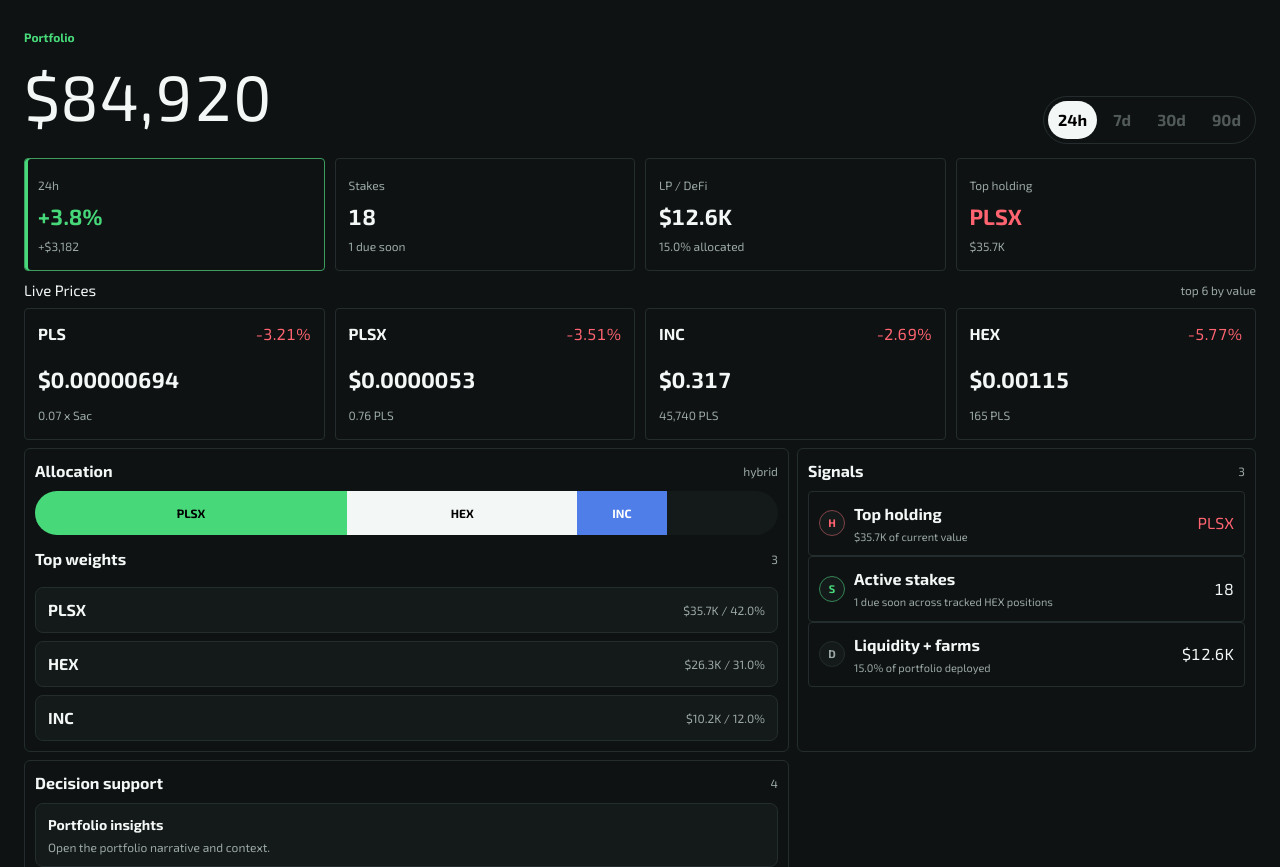
Test: atlas home surface › opens an exact token detail from the design fallback
The image size is (1280, 867).
Click the button "PLSX -3.51% $0.0000053 0.76 PLS" at [368, 333], box [334,308,635,440]
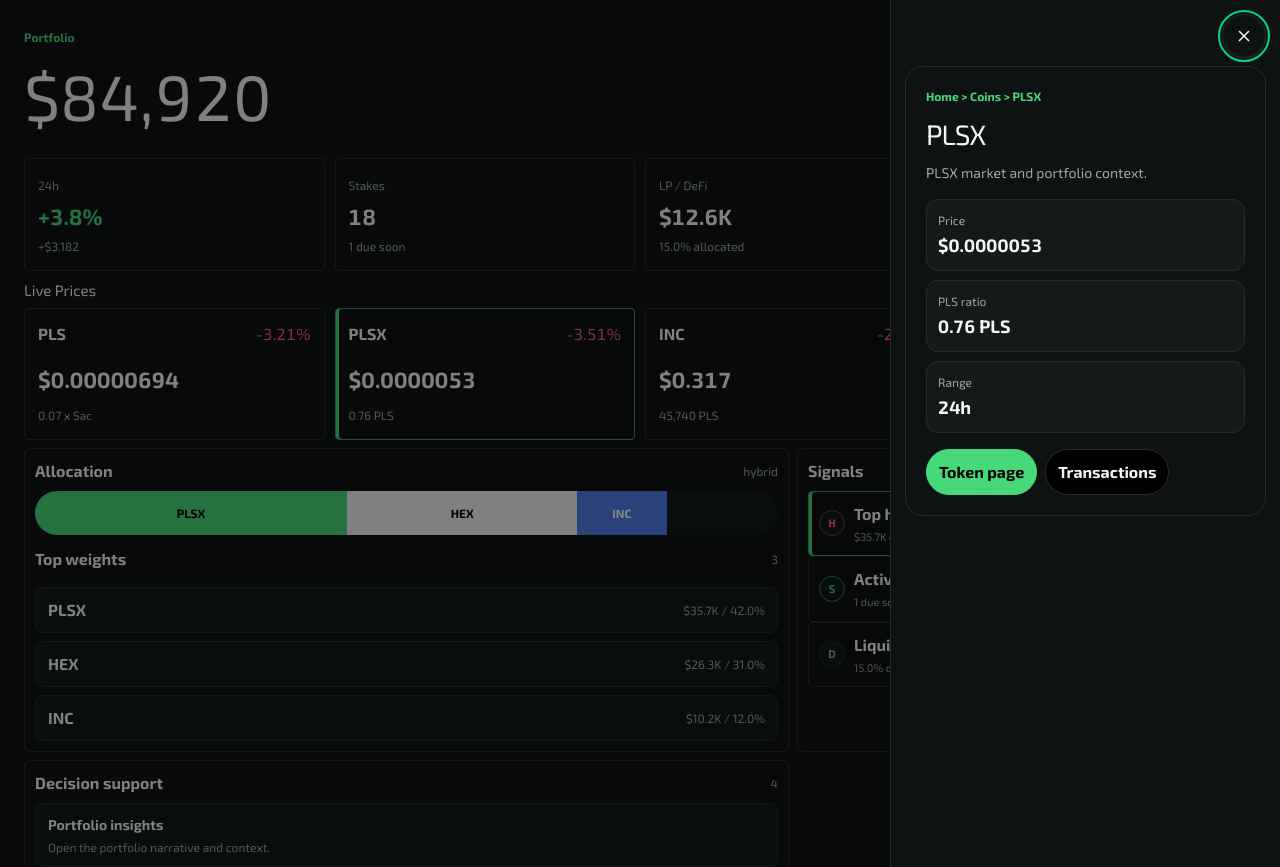
Result: the heading "PLSX" is shown at [926,117,985,151]
